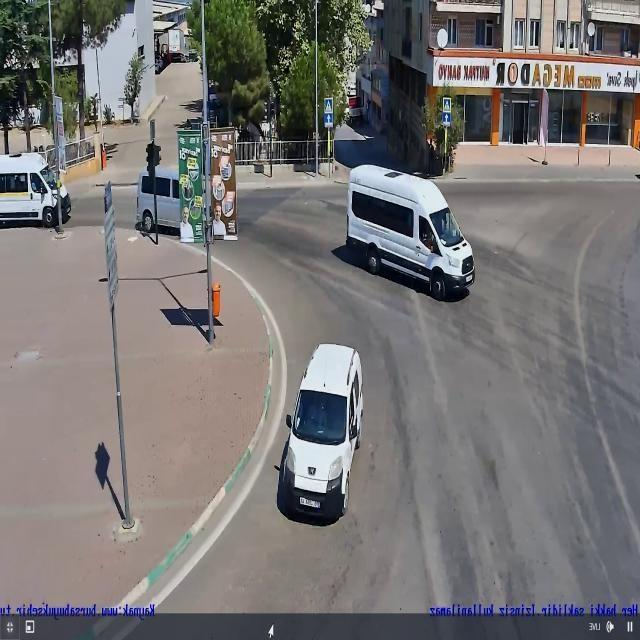Van: (332, 156, 500, 305), (286, 328, 383, 527), (0, 154, 81, 231), (139, 157, 208, 236)
